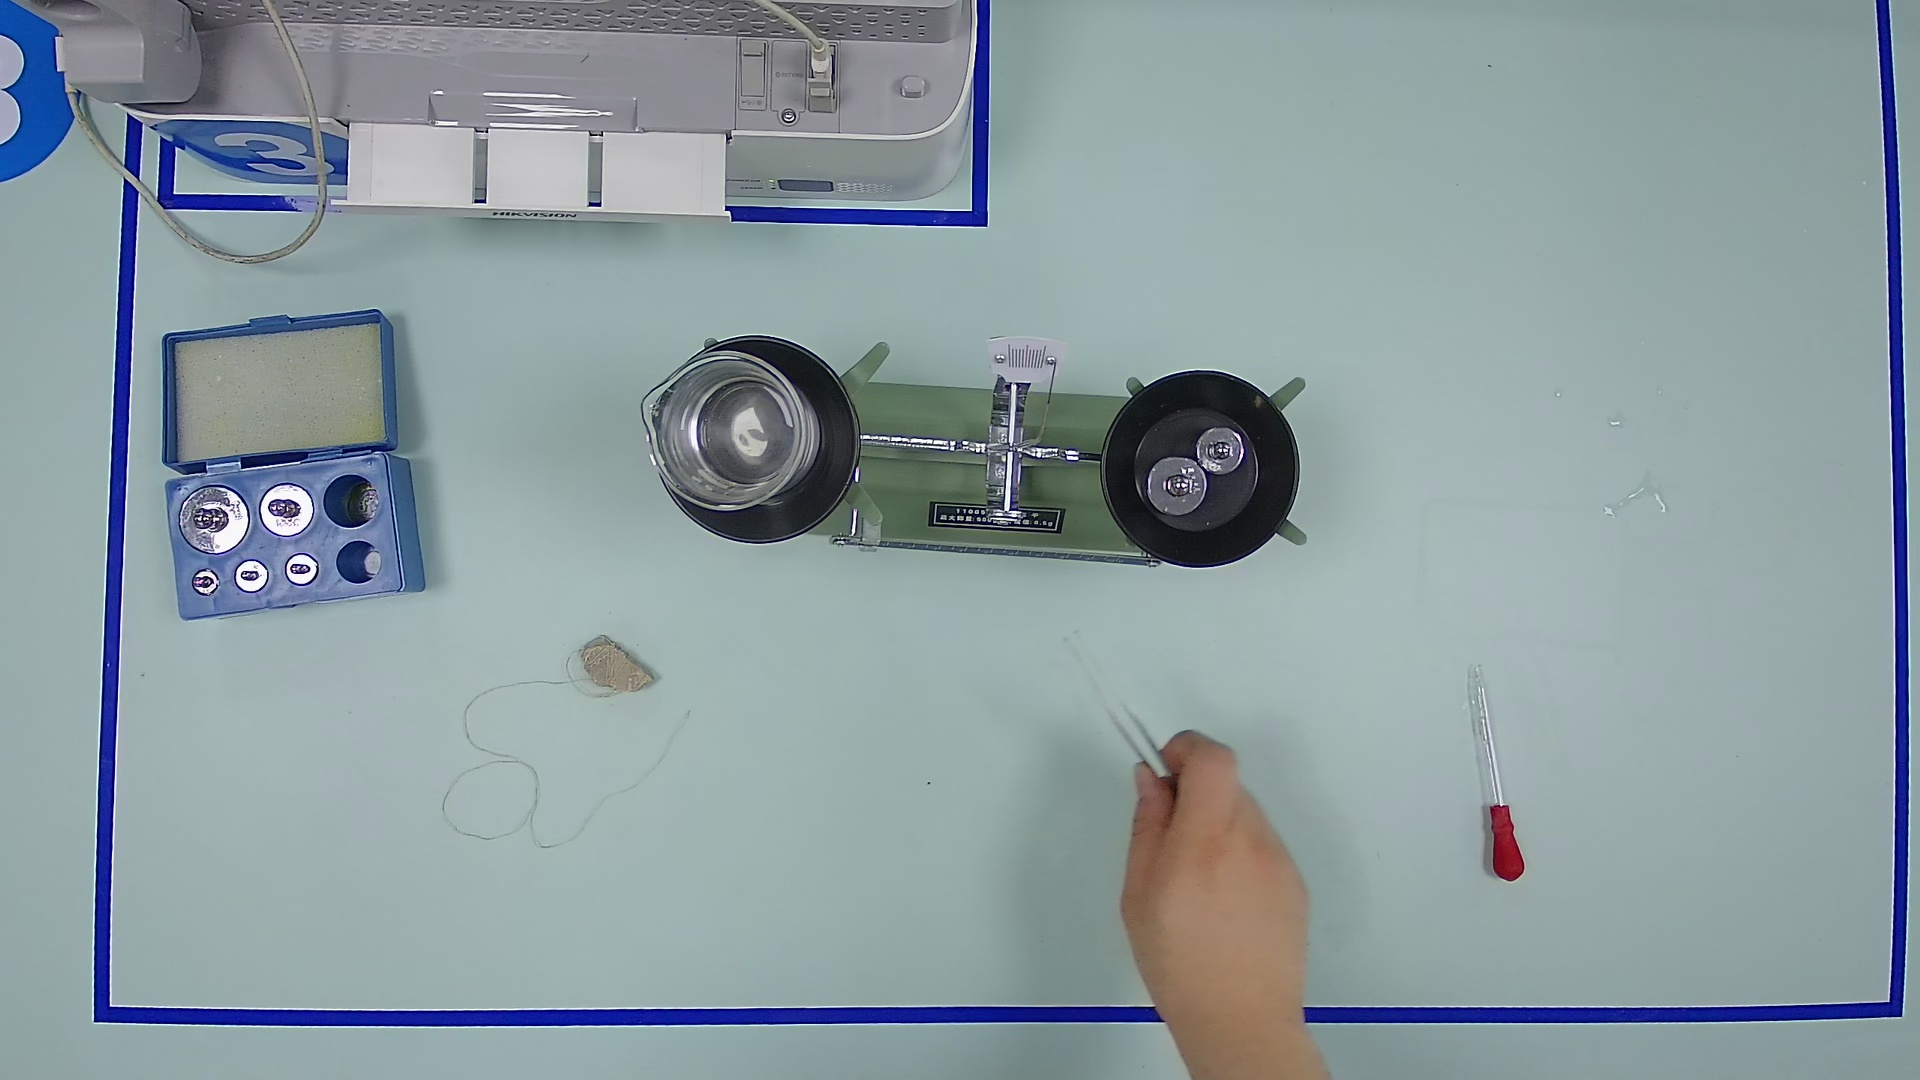bei: (632, 342, 833, 520)
diguan: (1433, 651, 1545, 887)
diguantou: (1477, 790, 1536, 891)
fama: (167, 473, 253, 560), (1142, 451, 1211, 522), (255, 477, 319, 543), (1193, 423, 1247, 477), (280, 549, 323, 592), (229, 556, 272, 600), (189, 564, 223, 601)
gan: (825, 517, 1154, 583)
hand: (1081, 709, 1346, 1029)
he: (129, 431, 444, 634)
niezi: (1058, 626, 1182, 781)
pointer: (988, 336, 1062, 381)
shi: (574, 630, 663, 709)
tuo: (1080, 347, 1321, 593), (645, 315, 880, 566)
you: (851, 508, 887, 560)
